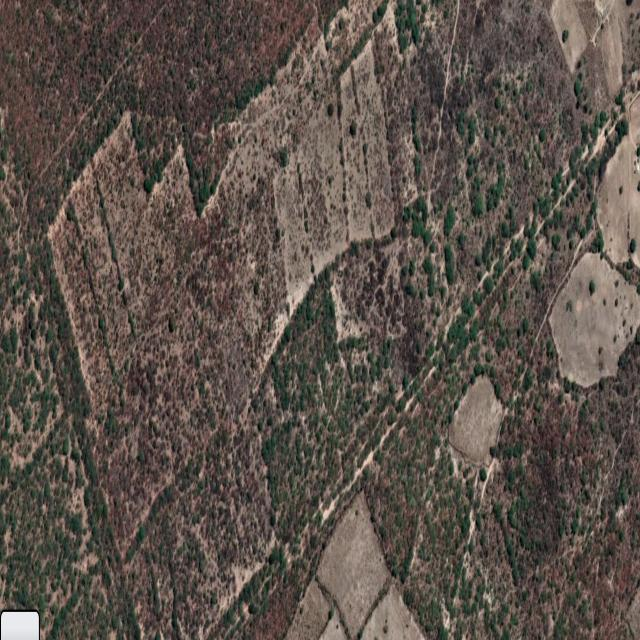boundaries: (189, 69, 639, 640), (31, 89, 138, 451)
